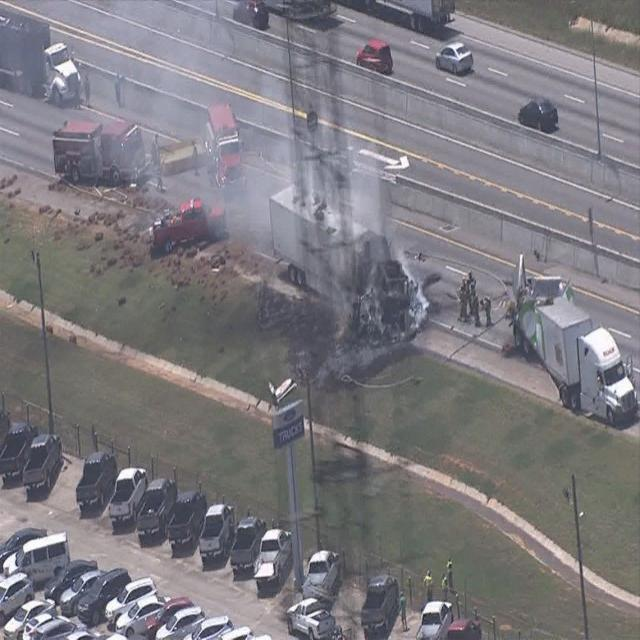traffic_incident: (267, 181, 417, 356), (506, 253, 640, 434)
